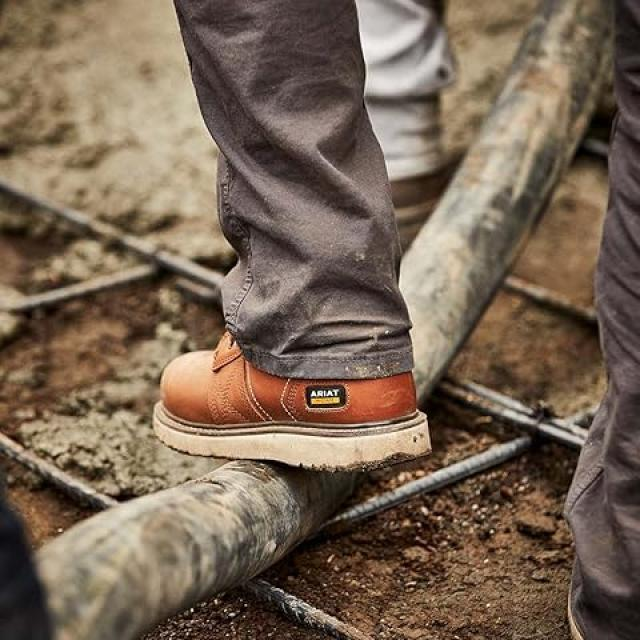Boots: (150, 323, 440, 475)
